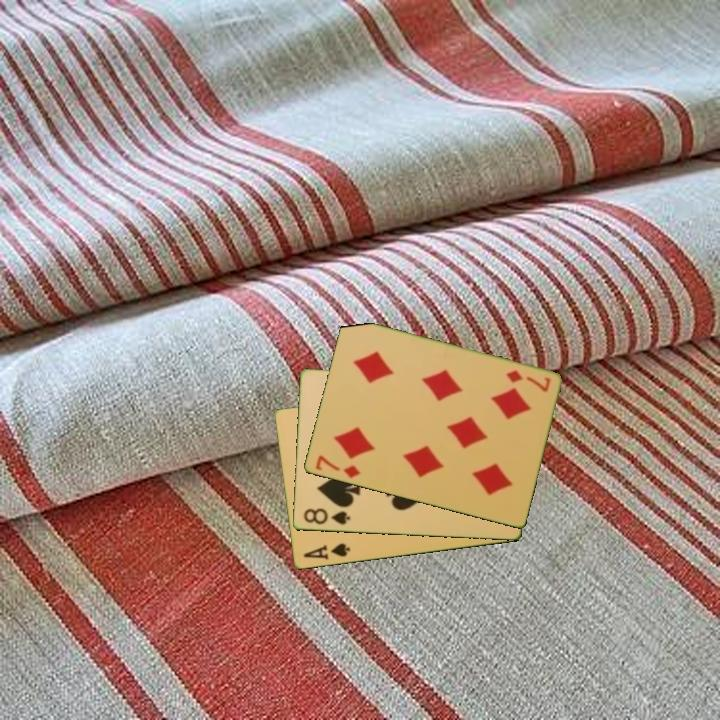7d: (311, 452, 363, 481), (502, 366, 553, 395)
8s: (300, 505, 353, 528)
As: (300, 540, 353, 563)
